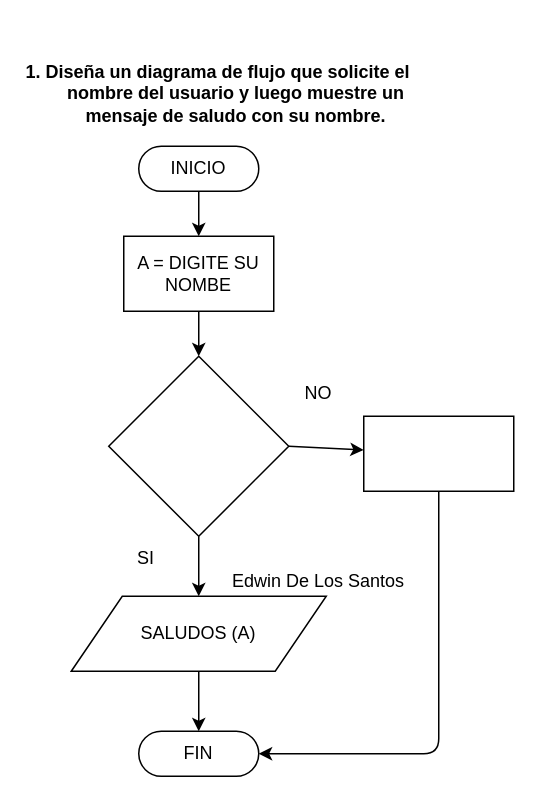
Image size: 540x803. Some labels were removed from this diagram. The centre of each missing label's shape, as x and y in pixels:
"DEBE INGRESAR UN NOMBRE" belongs at (x=438, y=453).
"INGRESO NOMBRE? (A)" belongs at (x=198, y=445).
